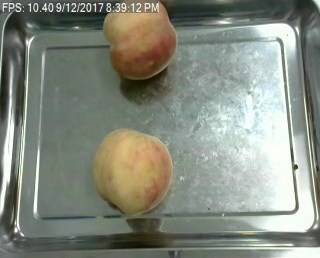Peach: (90, 127, 173, 215), (104, 0, 177, 79)
